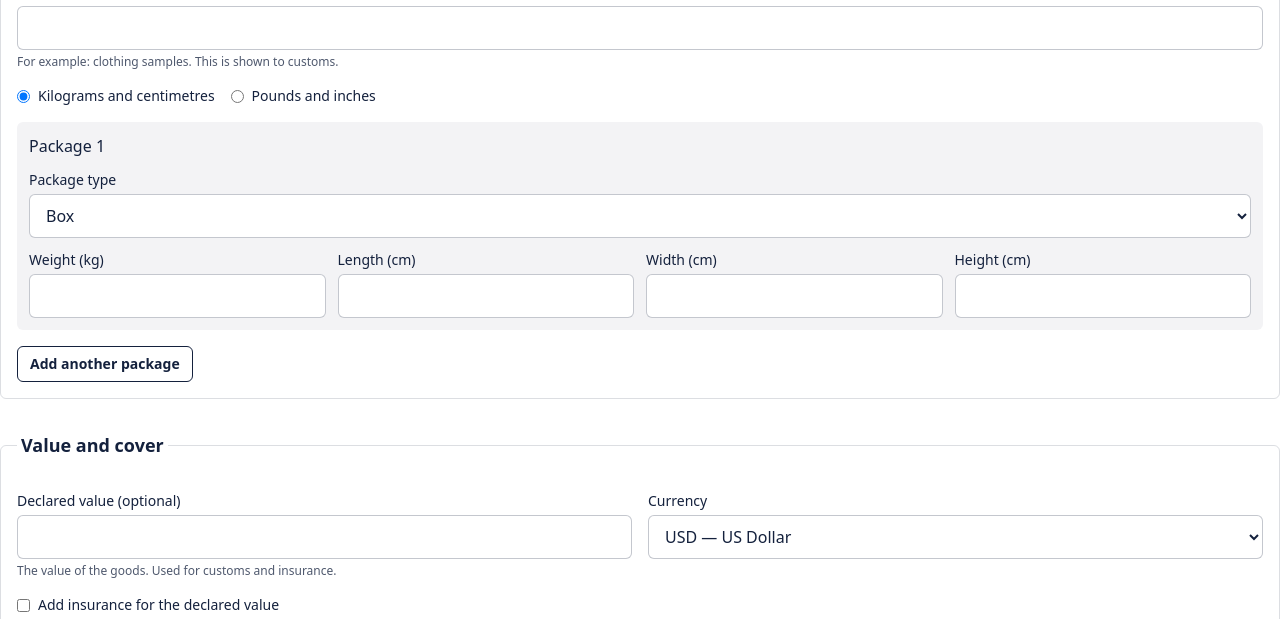
Scenario: QuoteForm › adds and removes packages
(page scrolled)
Click the button "Add another package": (105, 364) [17,346,193,382]
(page scrolled)
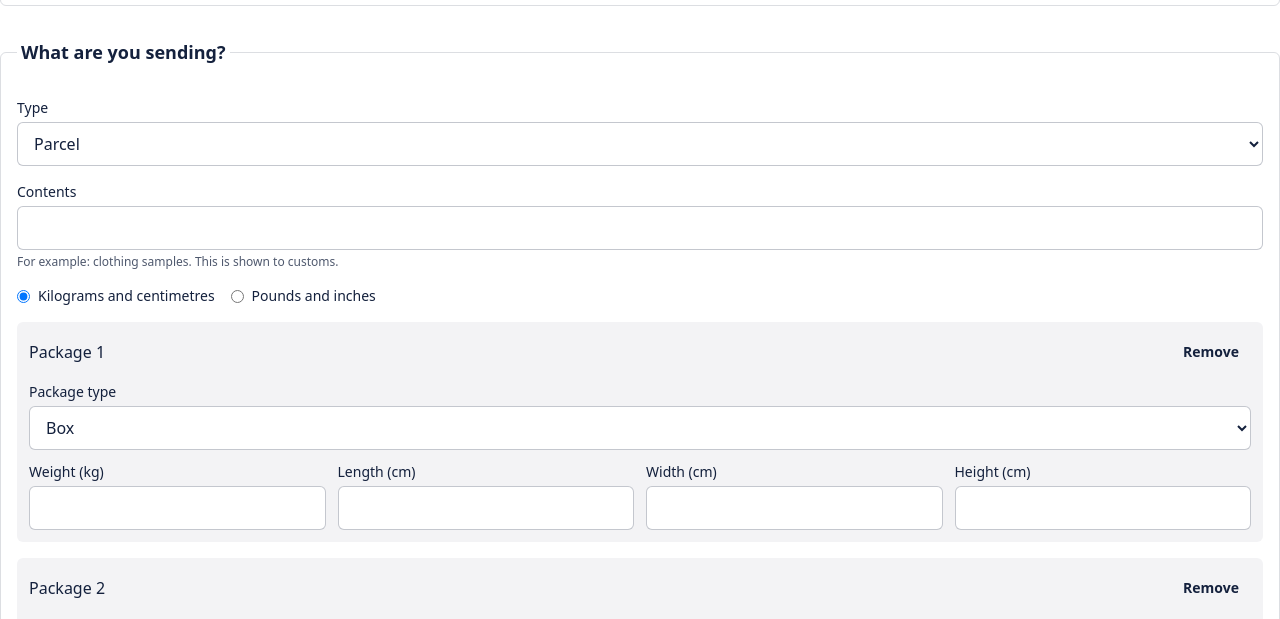
Click the button named "Remove package 1": (1211, 352) [1171,334,1251,370]
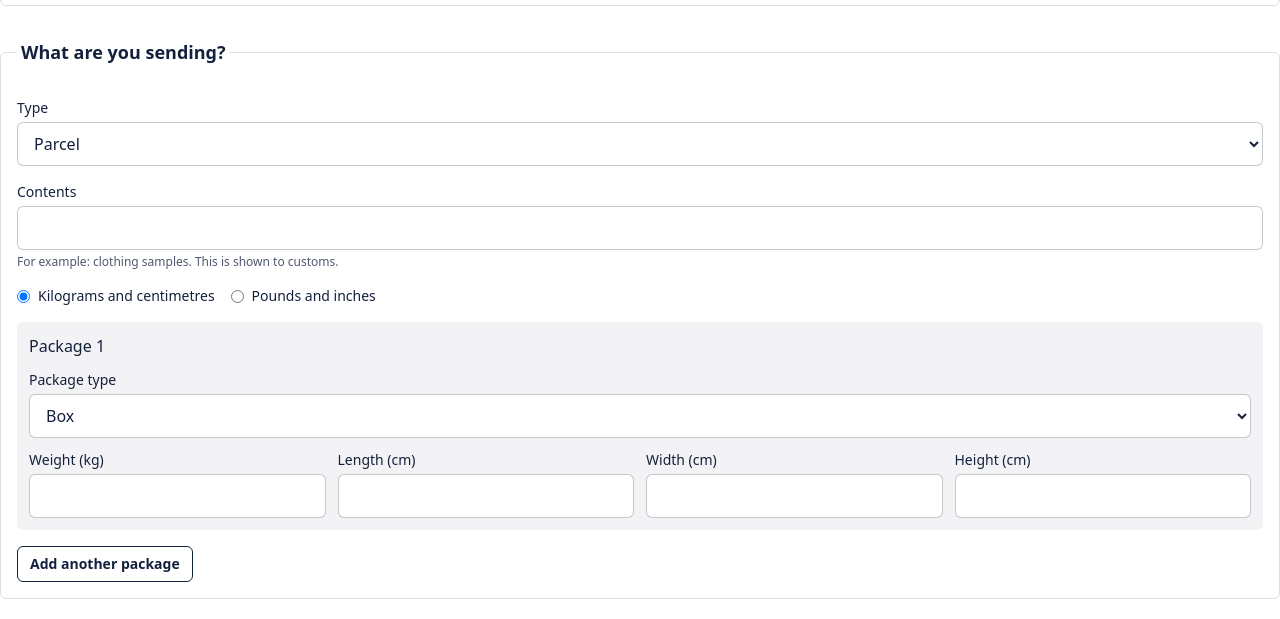
Expected: the number of elements "Package 1" is 1, [17,322,1263,530]
Expected: the button "Remove Package" is gone
